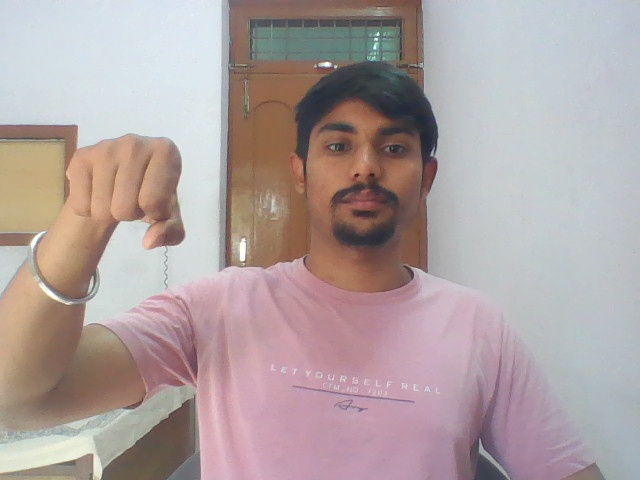Yes: (59, 127, 189, 256)
